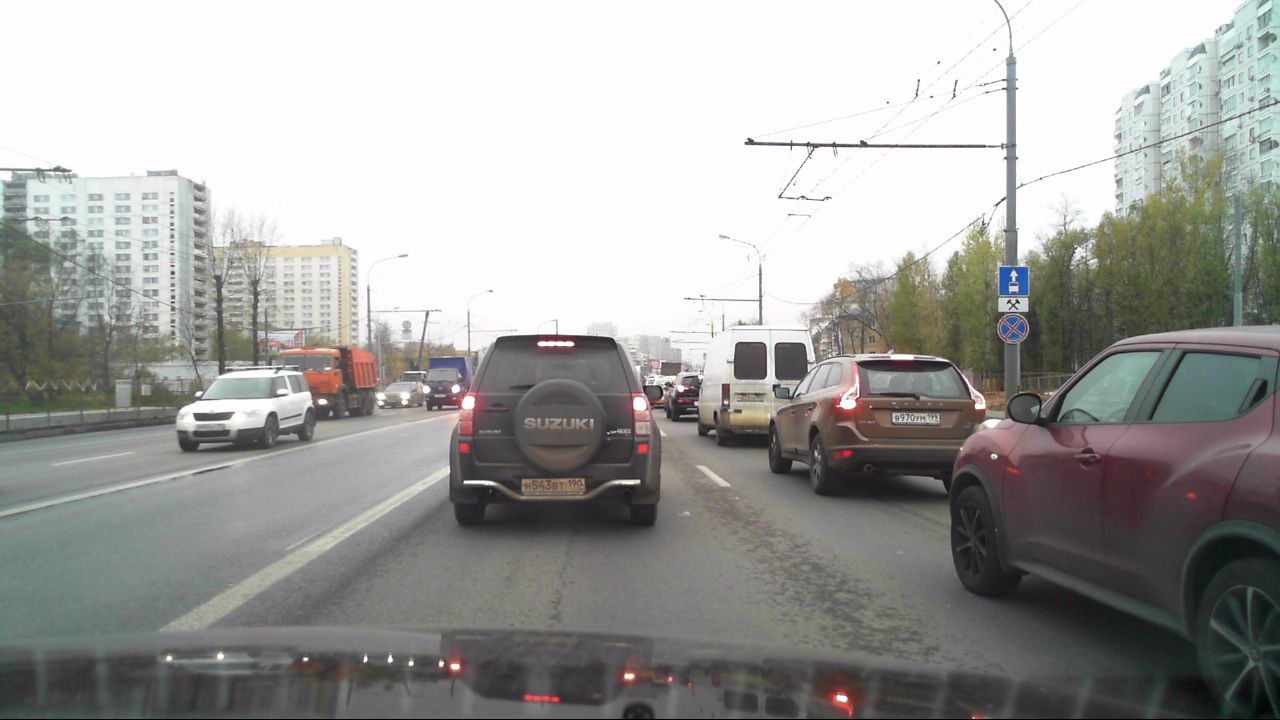No Parking: (996, 313, 1031, 345)
